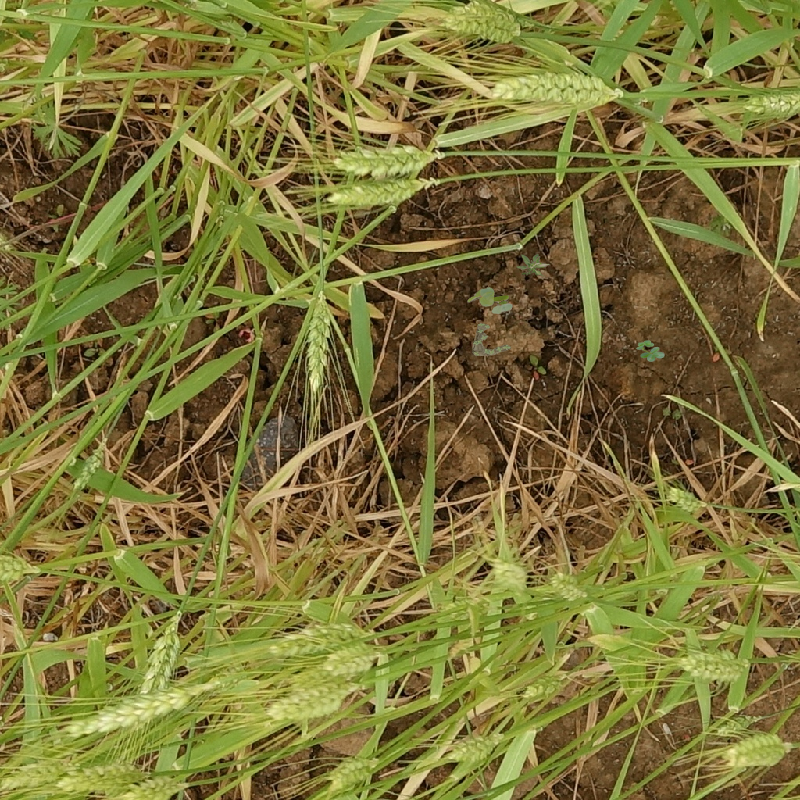spikelet: (59, 669, 244, 742), (244, 612, 374, 664), (485, 63, 622, 112), (259, 669, 369, 726), (32, 756, 150, 799), (295, 287, 339, 402), (133, 604, 188, 694), (327, 138, 443, 179), (321, 171, 435, 210), (436, 0, 528, 43), (0, 751, 77, 797), (540, 561, 603, 614), (719, 727, 794, 771), (674, 643, 755, 683), (315, 636, 389, 678), (443, 723, 513, 766), (319, 749, 382, 795), (100, 767, 190, 799), (517, 664, 573, 704), (740, 83, 800, 120), (661, 479, 710, 517), (0, 538, 37, 587), (705, 708, 762, 737)
weed: (472, 323, 511, 356), (467, 287, 513, 314), (516, 254, 550, 277), (636, 340, 665, 362)
